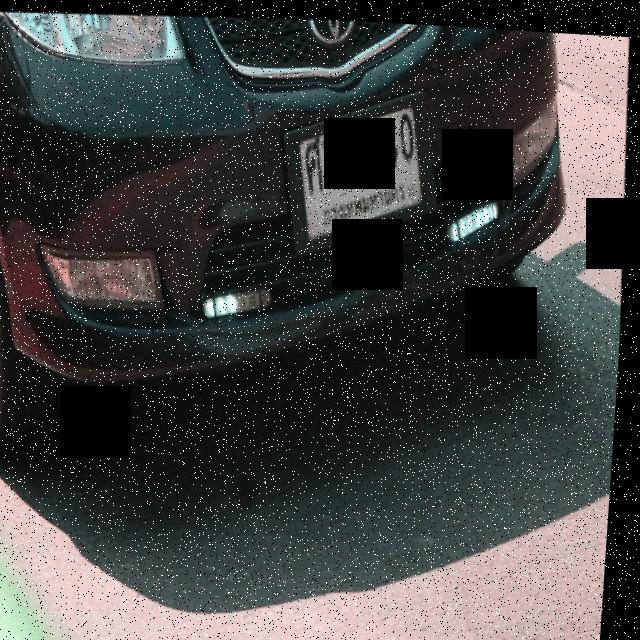text: (302, 103, 422, 235)
